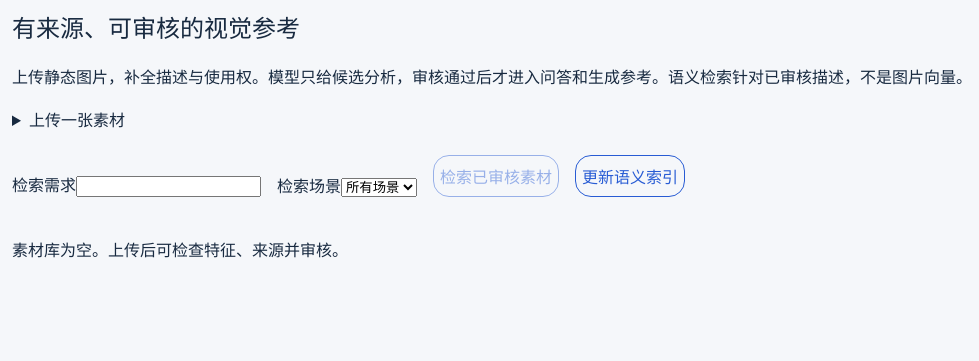
Scenario: shows lexical fallback and never labels missing vectors as semantic results
In the field labelled "检索需求": (168, 186) [76,176,261,197], type "星空"
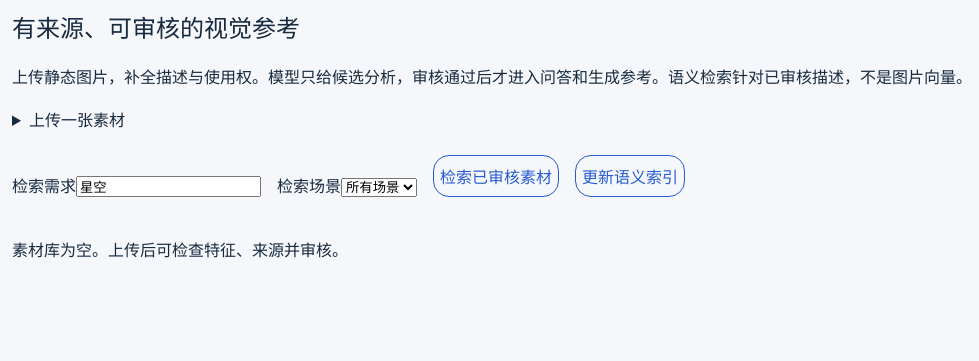
Click the button "检索已审核素材": (496, 176) [433,155,559,197]
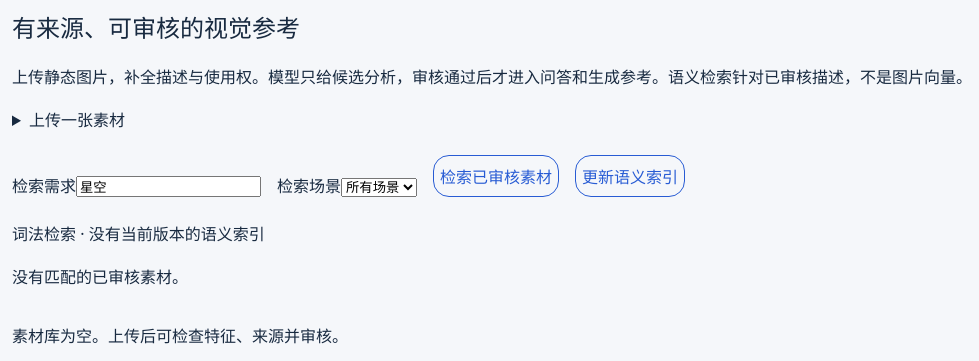
Expected: the text "词法检索 · 没有当前版本的语义索引" is shown, [12,223,265,245]
